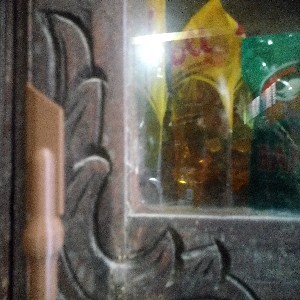cutter: (21, 80, 67, 300)
